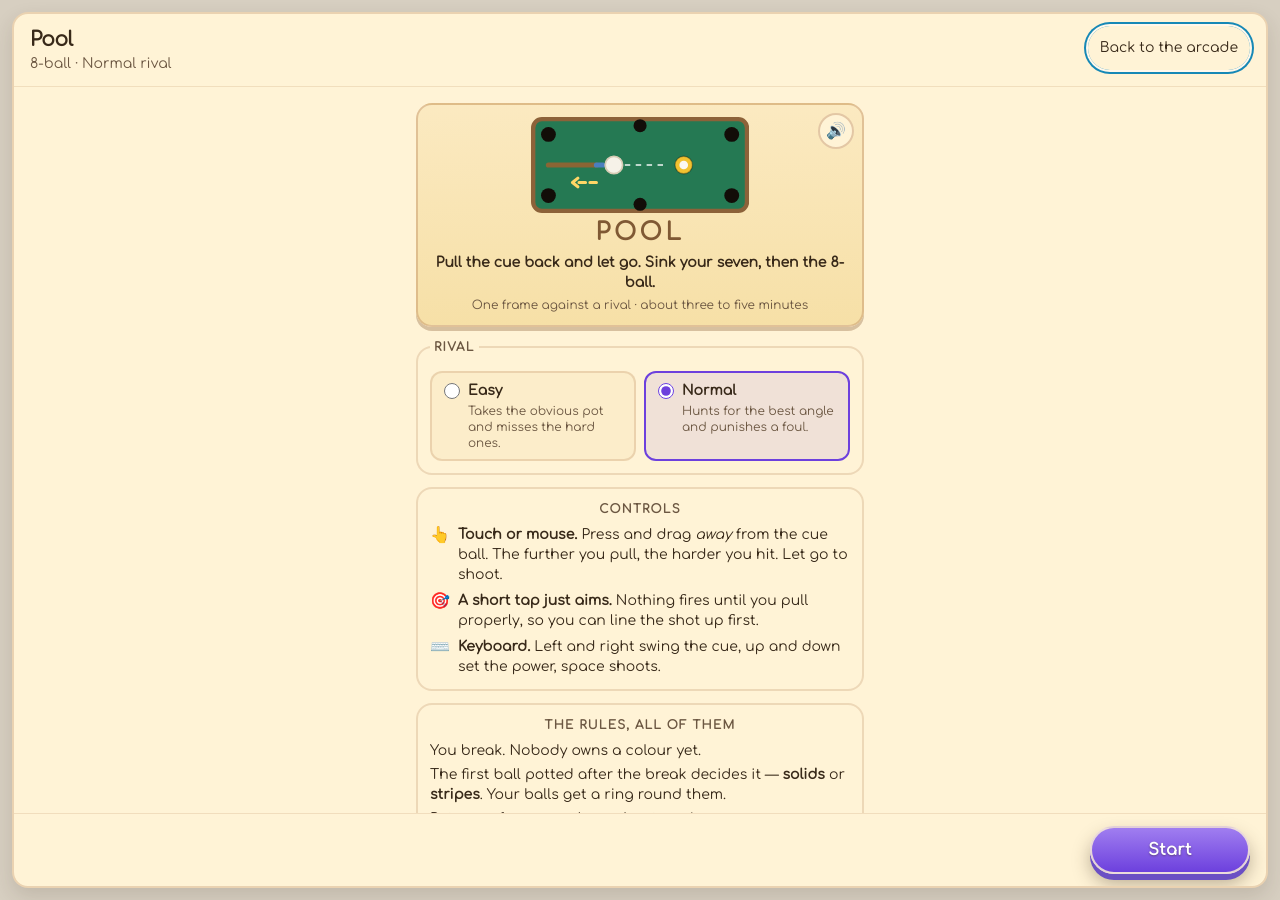
Test: before the frame › lets the rival be chosen before starting, and says so in the header
Click the radio button labelled "Easy Takes the obvious pot and misses the hard ones.".
click(452, 391)  # box [444,383,460,399]
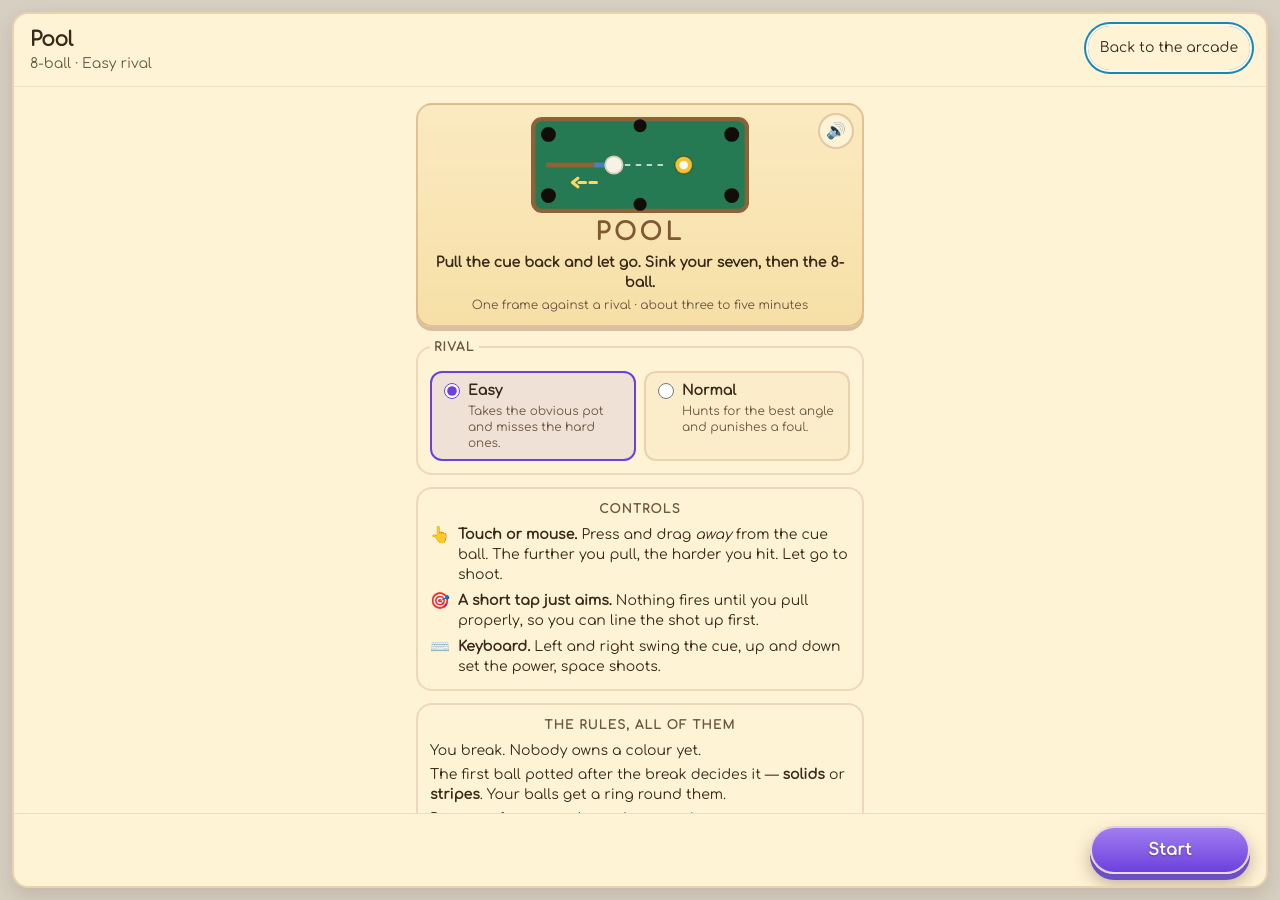
Expected: the radio button labelled "Easy Takes the obvious pot and misses the hard ones." is checked, [444,383,460,399]
Expected: the text "8-ball · Easy rival" is shown, [30,54,152,74]
